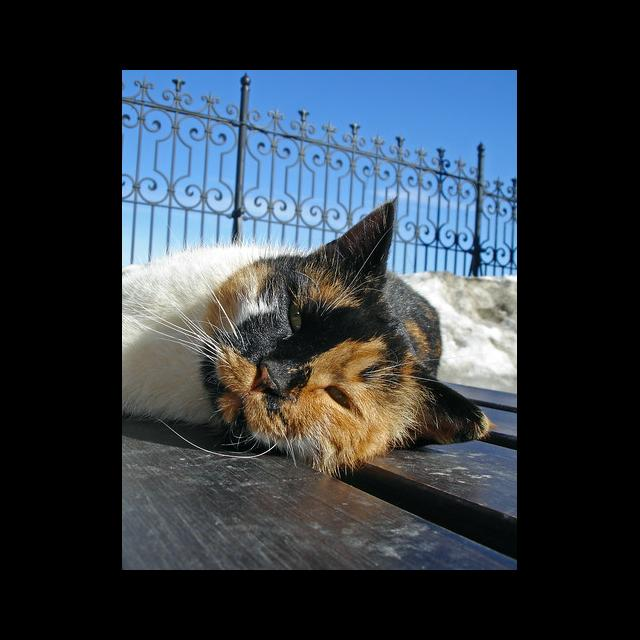animals: (122, 201, 492, 463)
